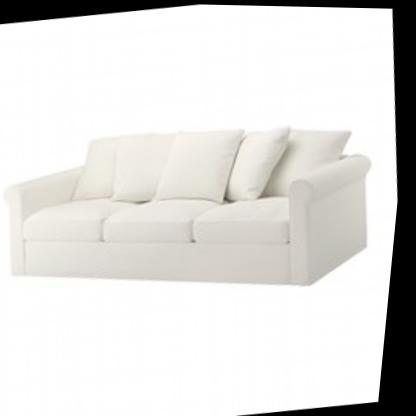Sofa: (0, 89, 400, 328)
